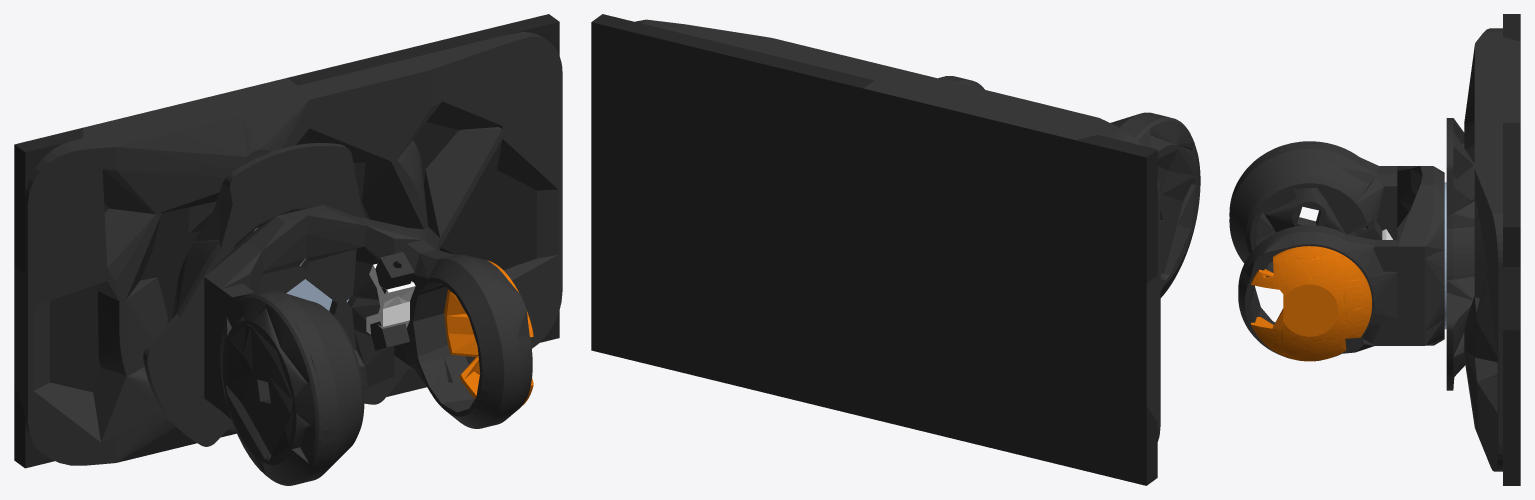
File: LLEG_LINK5_mesh.dae
The picture shows the model from 3 angles, left to right: view 1: azimuth 30°, elevation 25°; view 2: azimuth 150°, elevation 25°; view 3: azimuth 270°, elevation 25°; orthographic projection. The views are drawn at different scales.
Visible parts, largest first — view 1: LLEG_LINK5 (×12); view 2: LLEG_LINK5 (×3); view 3: LLEG_LINK5 (×10).
Boxes of the visible parts, x1,y1,x2,y2 form: LLEG_LINK5 (×12): (14,14,562,485); LLEG_LINK5 (×3): (591,14,1200,485); LLEG_LINK5 (×10): (1229,14,1520,485).
Size of the model in its own units: 0.23 by 0.13 by 0.1326.
